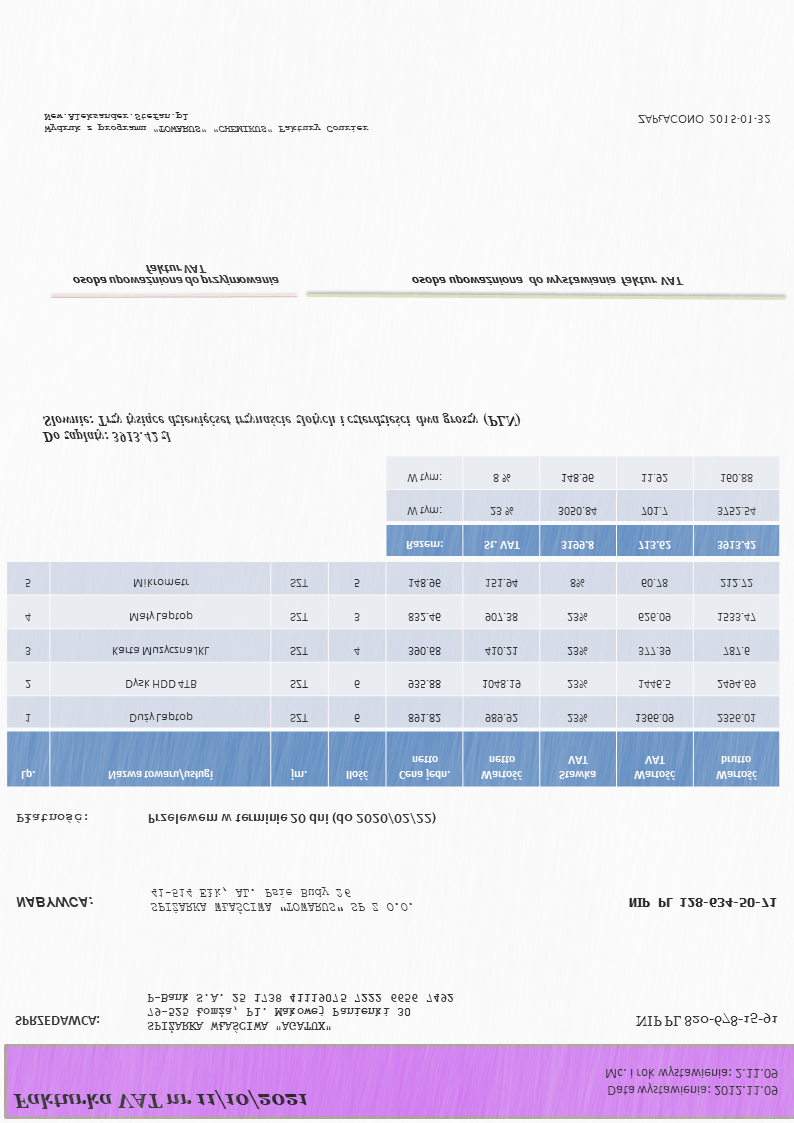Table: (4, 561, 780, 790), (385, 455, 780, 558)
TextBox: (39, 410, 523, 447), (142, 990, 455, 1035), (40, 109, 371, 136), (147, 885, 416, 916), (10, 1089, 309, 1113), (601, 1066, 781, 1100), (70, 262, 280, 290), (409, 271, 687, 290), (145, 809, 438, 826), (626, 894, 778, 912), (631, 1011, 779, 1029), (634, 109, 772, 128), (12, 1013, 101, 1030), (13, 894, 94, 912), (14, 810, 91, 828)
